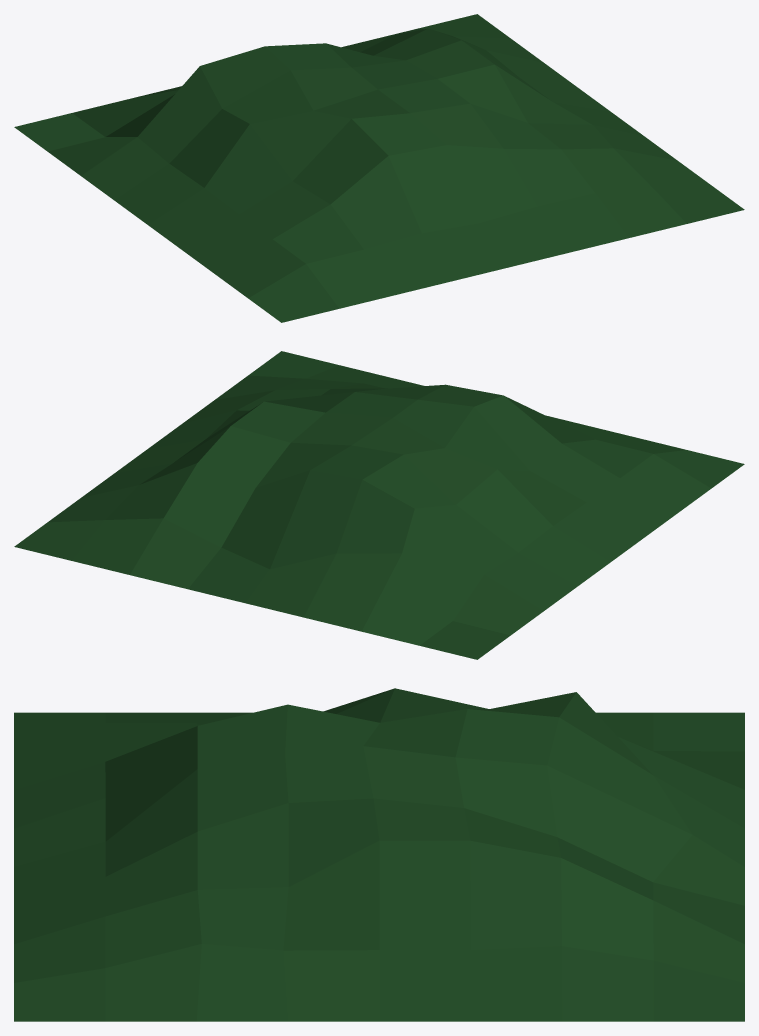
File: Terrain_16_Dark_Green.fbx
3 views of the same model, one above another, from view 1: azimuth 30°, elevation 25°; view 2: azimuth 150°, elevation 25°; view 3: azimuth 270°, elevation 25° (orthographic). The views are drawn at different scales.
Visible parts, largest first — view 1: Terrain_16_Dark_Green; view 2: Terrain_16_Dark_Green; view 3: Terrain_16_Dark_Green.
Boxes of the visible parts, left/top/right/bottom form: Terrain_16_Dark_Green: left=14, top=14, right=744, bottom=322; Terrain_16_Dark_Green: left=14, top=351, right=744, bottom=659; Terrain_16_Dark_Green: left=14, top=688, right=744, bottom=1021.
Bounding box in the file's own units: 7000 × 1288 × 7000.
